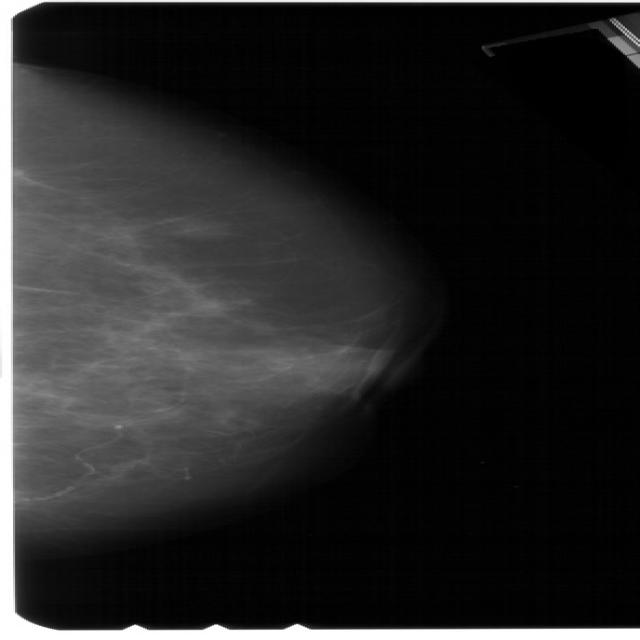tumour: (156, 216, 229, 240)
